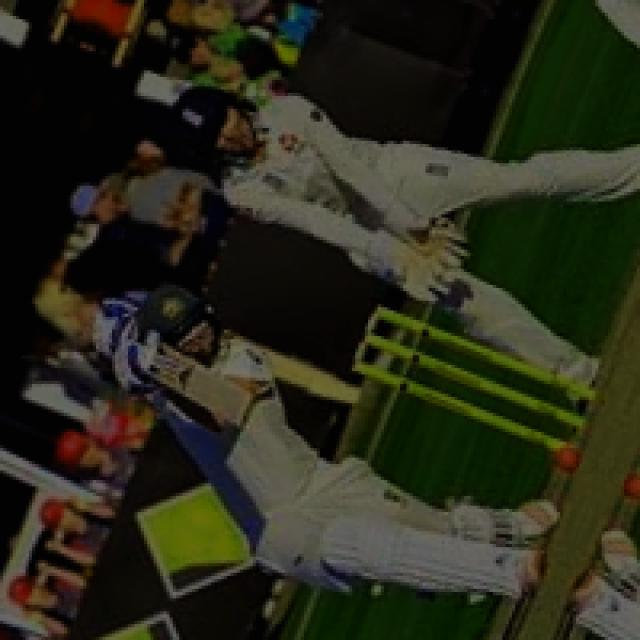bat: (118, 326, 264, 440)
toe: (227, 393, 265, 429)
